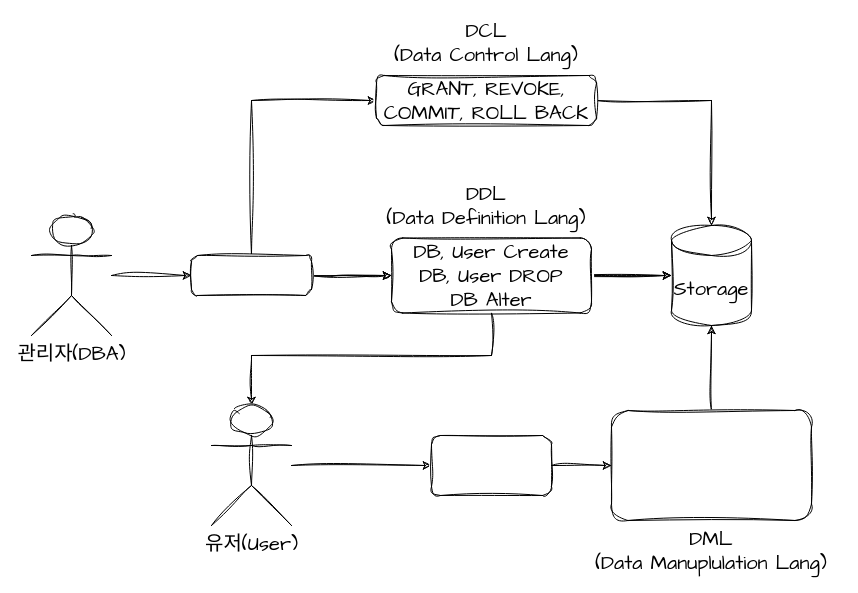
Image size: 858x593. Some labels were removed from this diagram. Here are the shapes that lost their labels. From the top down, the centre of each, then its label:
point (251, 275): Sys 로그인
point (491, 465): User 로그인
point (711, 465): CREAT : INSERT READ : SELECT UPDATE : UPDATE DELETE : DELETE
